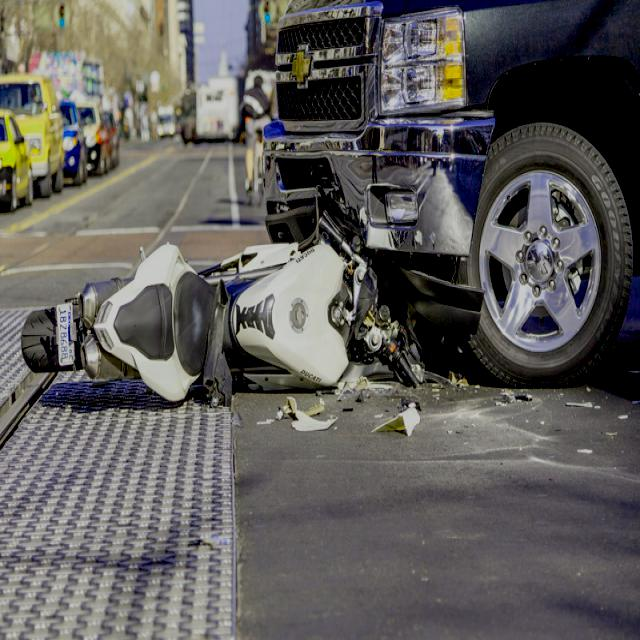accident: (21, 1, 640, 443)
non-accident: (0, 74, 120, 214)
